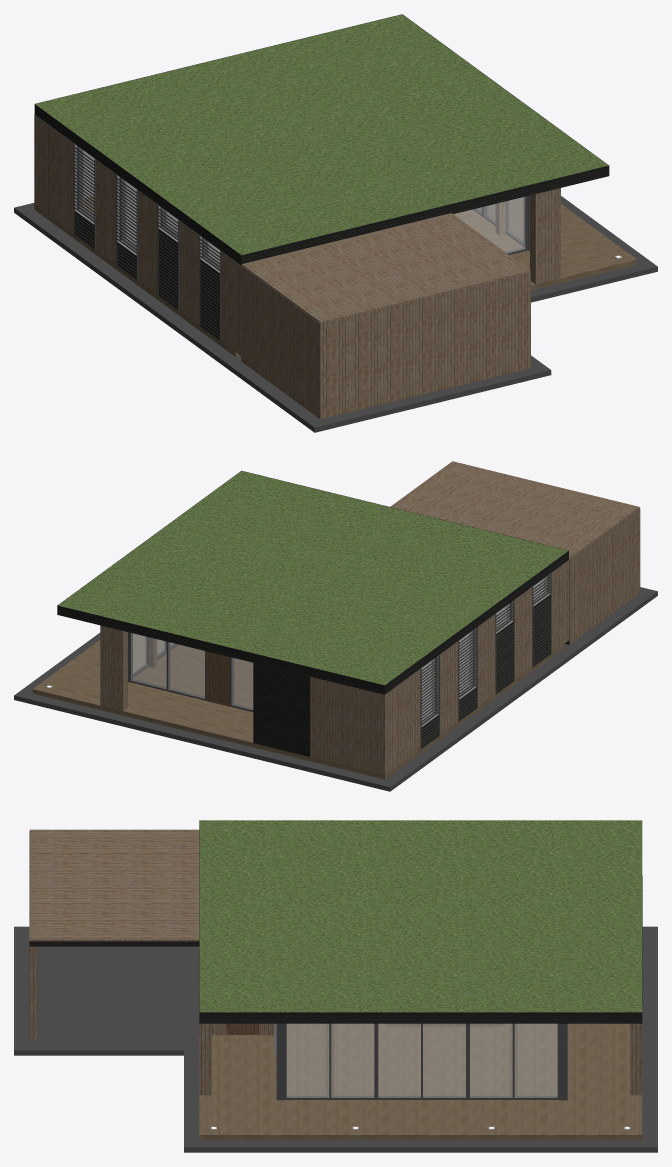
The model's file is Module1+2+3.glb.
3 views of the same model, one above another, from view 1: azimuth 30°, elevation 25°; view 2: azimuth 150°, elevation 25°; view 3: azimuth 270°, elevation 25° (orthographic). The views are drawn at different scales.
Visible parts, largest first — view 1: Трава, Деревянная отделка светлая, Черный, Новый материал (по умолчанию), Отделка перекрытия, Пол отделка светлая, Сталь ASTM A36, Стекло, Штукатурка, Стена по умолчанию; view 2: Трава, Деревянная отделка светлая, Новый материал (по умолчанию), Черный, Отделка перекрытия, Пол отделка светлая, Стекло, Сталь ASTM A36, Отделка дверей, Штукатурка, Стена по умолчанию; view 3: Трава, Пол отделка светлая, Черный, Деревянная отделка светлая, Стекло, Отделка перекрытия.
Boxes of the visible parts, box(x1,y1,x2,y2) form: Трава: box(35, 14, 608, 254); Деревянная отделка светлая: box(241, 188, 560, 419); Черный: box(14, 144, 657, 432); Новый материал (по умолчанию): box(34, 114, 240, 355); Отделка перекрытия: box(34, 14, 609, 339); Пол отделка светлая: box(34, 196, 637, 356); Сталь ASTM A36: box(74, 147, 219, 341); Стекло: box(79, 147, 525, 268); Штукатурка: box(84, 151, 219, 262); Стена по умолчанию: box(35, 115, 239, 272); Трава: box(58, 471, 568, 685); Деревянная отделка светлая: box(100, 461, 640, 710); Новый материал (по умолчанию): box(310, 560, 569, 774); Черный: box(14, 573, 657, 791); Отделка перекрытия: box(57, 470, 569, 756); Пол отделка светлая: box(32, 633, 564, 779); Стекло: box(131, 576, 547, 722); Сталь ASTM A36: box(421, 576, 551, 749); Отделка дверей: box(206, 651, 229, 706); Штукатурка: box(421, 579, 542, 717); Стена по умолчанию: box(385, 561, 567, 726); Трава: box(199, 820, 642, 1012); Пол отделка светлая: box(199, 1023, 642, 1140); Черный: box(14, 926, 657, 1152); Деревянная отделка светлая: box(29, 829, 642, 1095); Стекло: box(287, 1024, 557, 1097); Отделка перекрытия: box(29, 820, 642, 1023).
Bounding box in the file's own units: 13.22 × 3.31 × 16.3.
14 materials, 8 textured.
